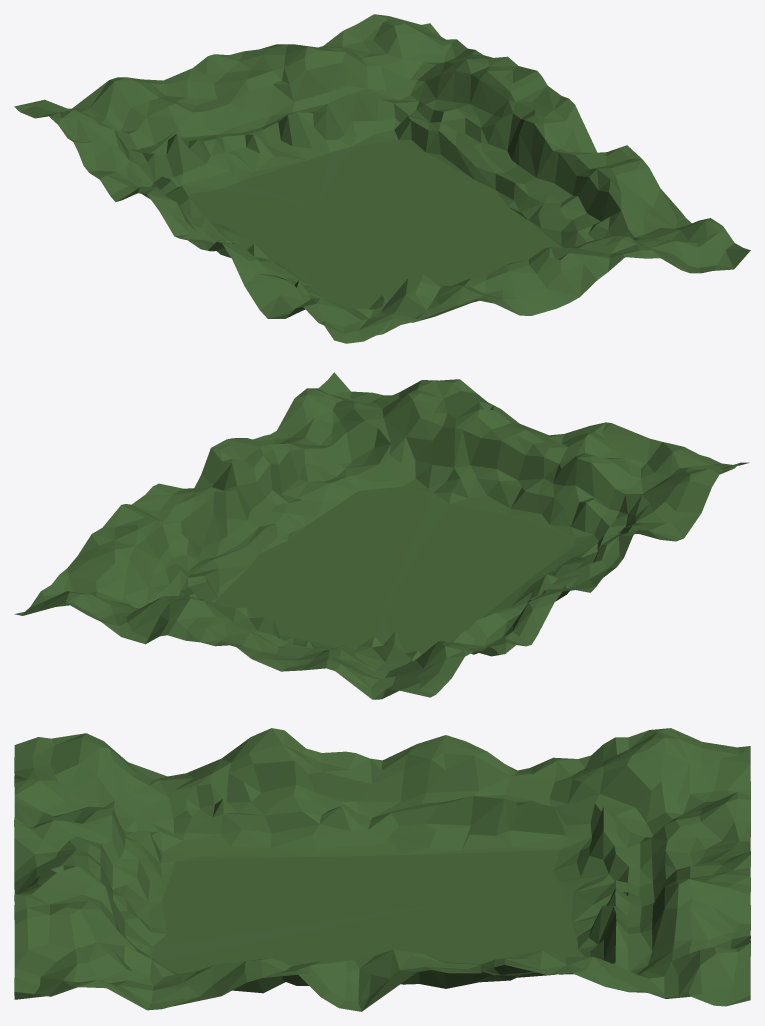
The model's file is Mount.fbx.
3 renders of one model, top to bottom at view 1: azimuth 30°, elevation 25°; view 2: azimuth 150°, elevation 25°; view 3: azimuth 270°, elevation 25°, orthographic. The views are drawn at different scales.
Parts seen in each view (by area): view 1: Grass_Material; view 2: Grass_Material; view 3: Grass_Material.
Part boxes in pixels (x1,y1,x2,y2): Grass_Material: [14, 14, 750, 343]; Grass_Material: [14, 372, 749, 699]; Grass_Material: [14, 728, 750, 1011].
Size of the model in its own units: 3005 by 466 by 4004.
